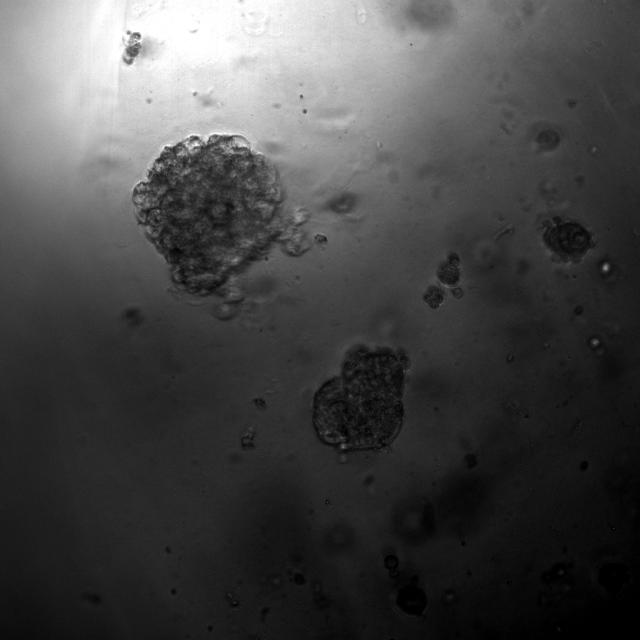organoid: (132, 134, 310, 319), (313, 345, 411, 450), (542, 216, 594, 261), (436, 253, 464, 299), (122, 30, 141, 65), (423, 285, 444, 310), (314, 234, 328, 247)
